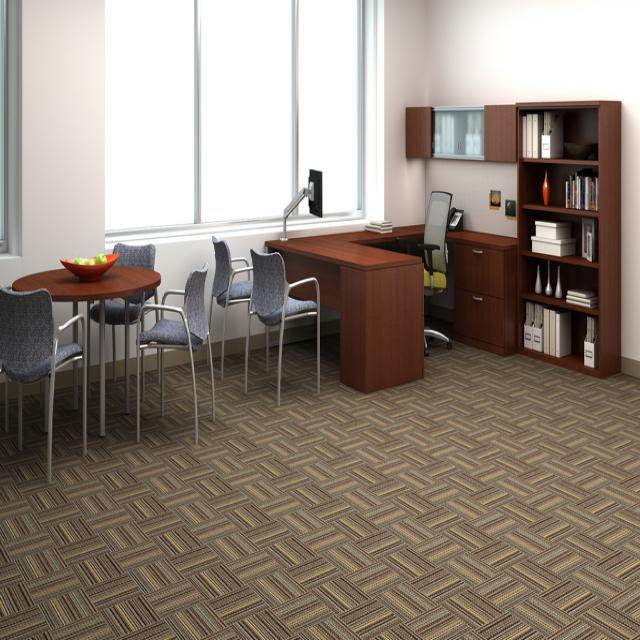chair: (0, 283, 86, 480), (136, 263, 215, 446), (245, 246, 321, 404), (395, 188, 454, 354), (211, 234, 253, 382)
desk: (230, 229, 449, 415)
